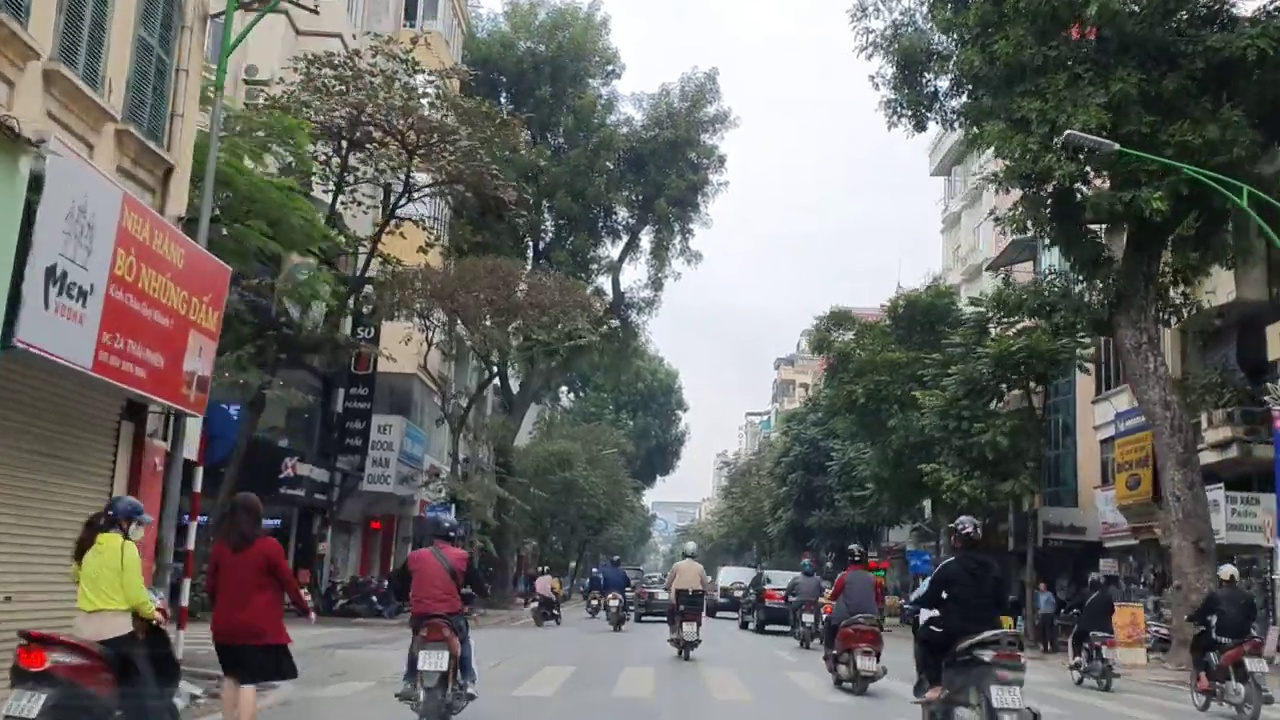vehicle-plate: (989, 676, 1024, 709)
